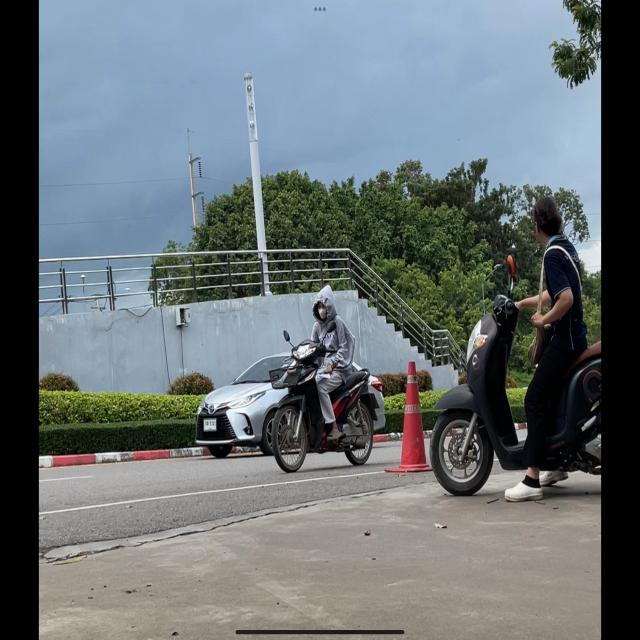seatbelt: (532, 195, 564, 244), (311, 283, 338, 325)
